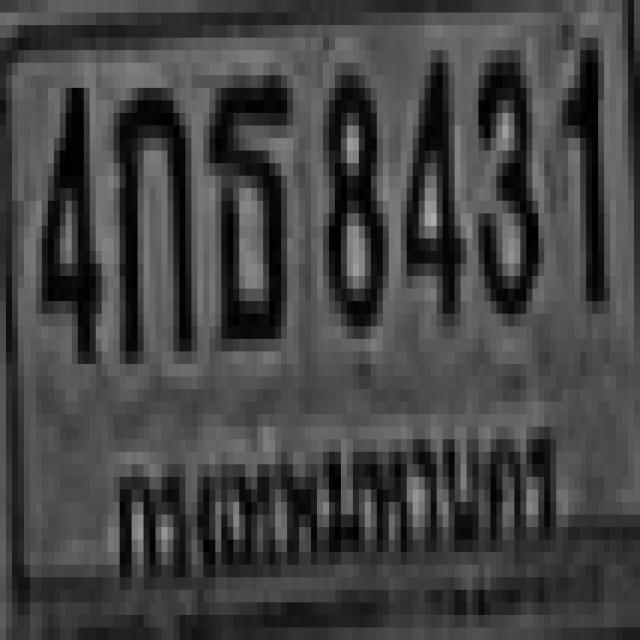1: (559, 38, 601, 301)
10GorGai: (110, 76, 188, 352)
3: (476, 38, 536, 314)
33ThorThong: (203, 63, 287, 339)
4: (36, 76, 96, 352), (400, 44, 454, 307)
8: (320, 63, 380, 326)
Bangkok: (114, 410, 566, 580)
